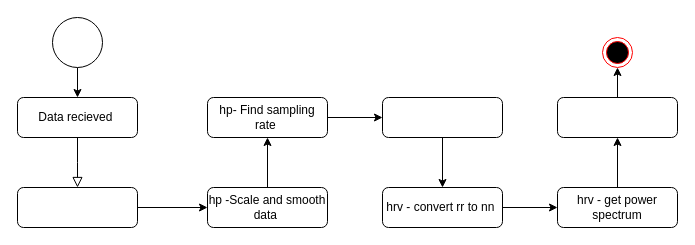
Some shapes in this 695 by 245 pixel diagram are drawn without their labels. The box of each missing label's shape, as (x1, y1, x2, y2) in pixels:
hp- get rr list: (382, 96, 502, 138)
plot and return all the graphs: (556, 96, 678, 138)
Scipy- Detrend: (16, 186, 138, 228)
